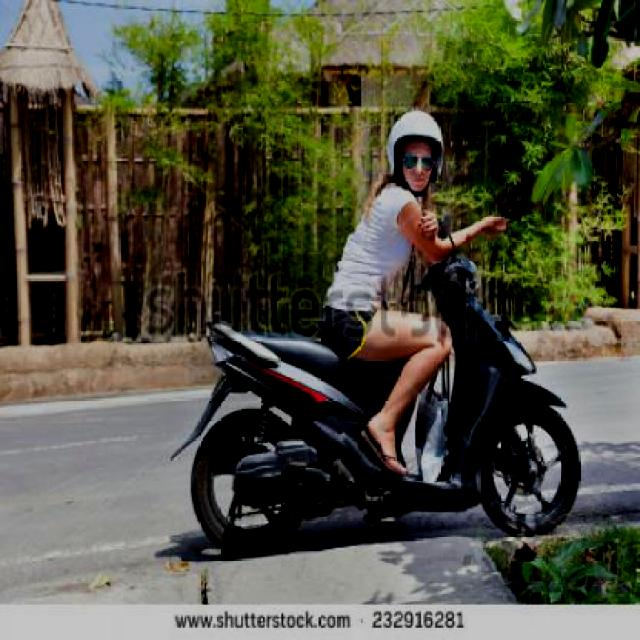With Helmet: (380, 103, 448, 197)
